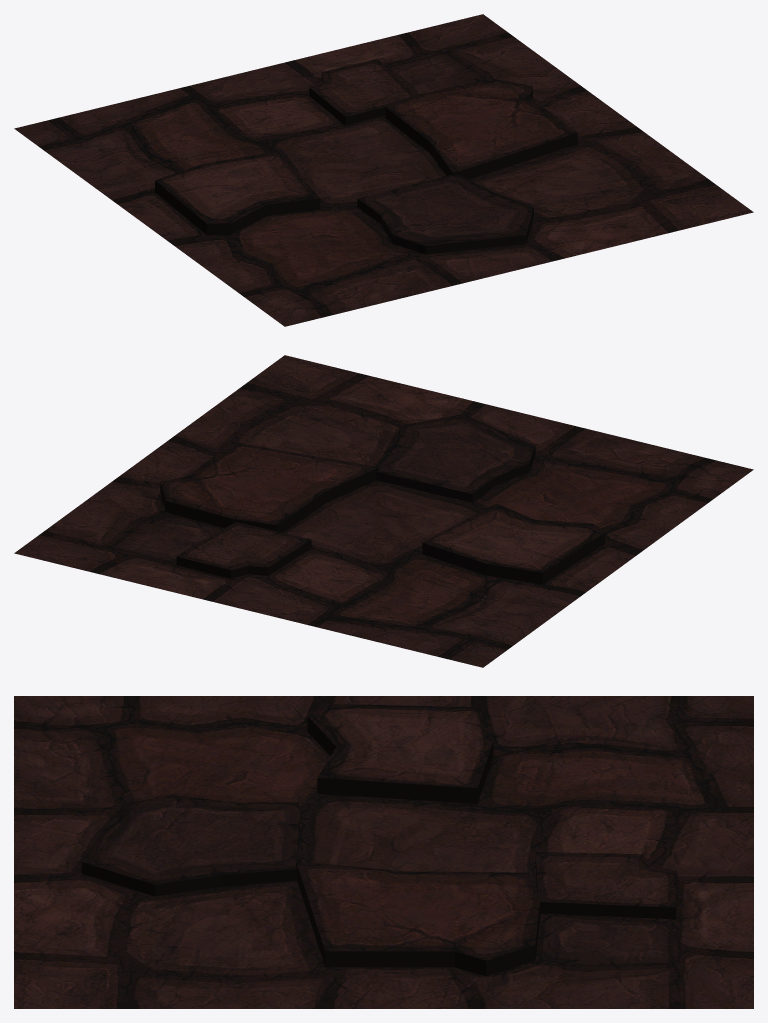
File: lava_floor_blank_08.fbx
The picture shows the model from 3 angles, top to bottom: view 1: azimuth 30°, elevation 25°; view 2: azimuth 150°, elevation 25°; view 3: azimuth 270°, elevation 25°; orthographic projection. The views are drawn at different scales.
Parts seen in each view (by area): view 1: lava_tileset/lava_floor01_shadow; view 2: lava_tileset/lava_floor01_shadow; view 3: lava_tileset/lava_floor01_shadow.
Boxes of the visible parts, <box> form: lava_tileset/lava_floor01_shadow: <box>14,14,753,326</box>; lava_tileset/lava_floor01_shadow: <box>14,355,753,667</box>; lava_tileset/lava_floor01_shadow: <box>14,696,753,1008</box>.
Bounding box in the file's own units: 4 × 0.095 × 4.
